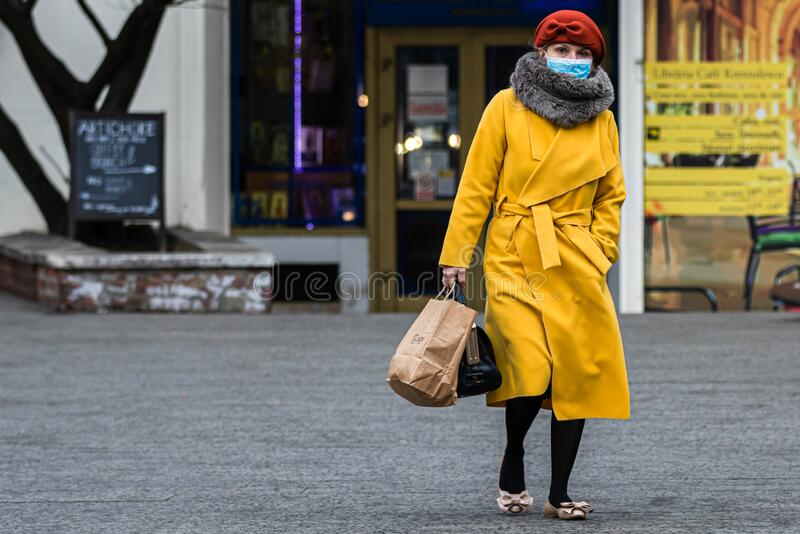with_mask: (531, 15, 611, 94)
